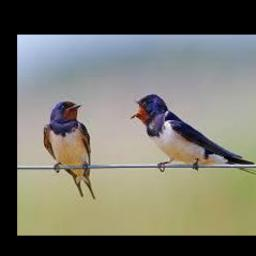Swallow: (127, 93, 256, 181), (44, 99, 94, 199)
